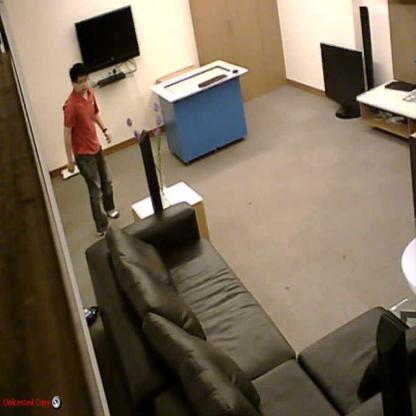Person: (63, 62, 119, 234)
